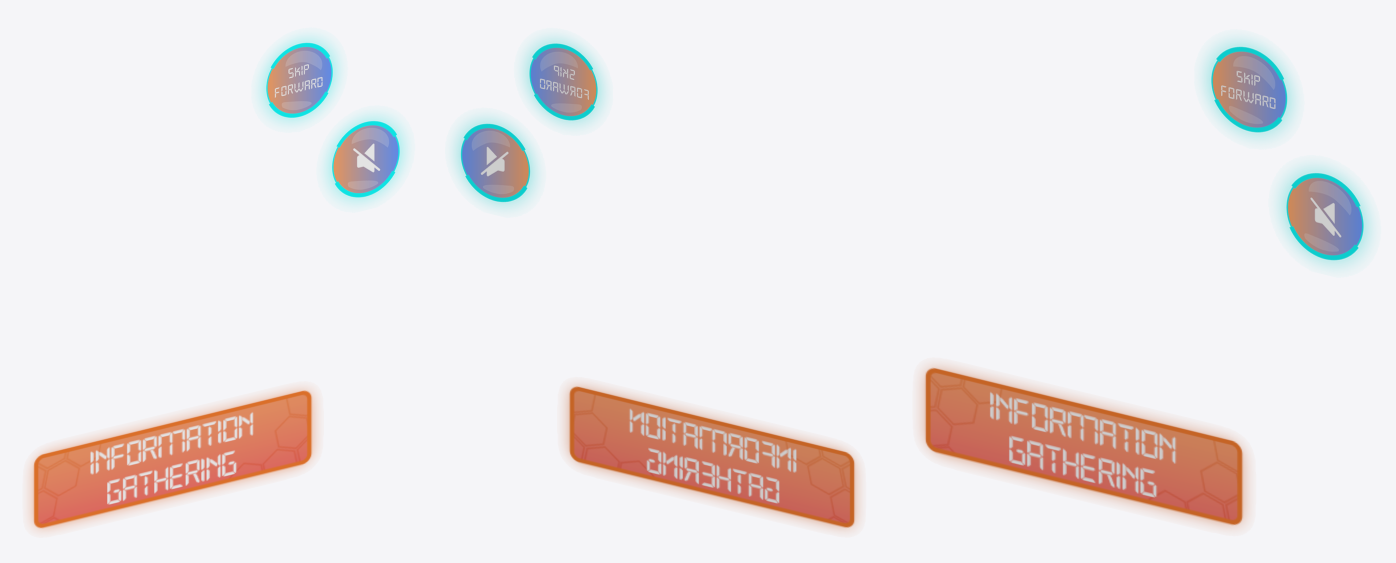
Rendered from gui.gltf.
The picture shows the model from 3 angles, left to right: view 1: azimuth 30°, elevation 25°; view 2: azimuth 150°, elevation 25°; view 3: azimuth 330°, elevation 25°; orthographic projection. The views are drawn at different scales.
Visible parts, largest first — view 1: Plane, mute, skipforward; view 2: Plane, mute, skipforward; view 3: Plane, mute, skipforward.
Boxes of the visible parts, left/top/right/bottom form: Plane: left=30, top=389, right=315, bottom=529; mute: left=326, top=116, right=404, bottom=201; skipforward: left=260, top=38, right=337, bottom=122; Plane: left=565, top=385, right=857, bottom=529; mute: left=455, top=119, right=535, bottom=206; skipforward: left=524, top=38, right=603, bottom=124; Plane: left=921, top=366, right=1247, bottom=527; mute: left=1280, top=167, right=1369, bottom=265; skipforward: left=1205, top=41, right=1293, bottom=137.
Bounding box in the file's own units: 0.607 × 0.6279 × 0.0232.
3 materials, 3 textured.
